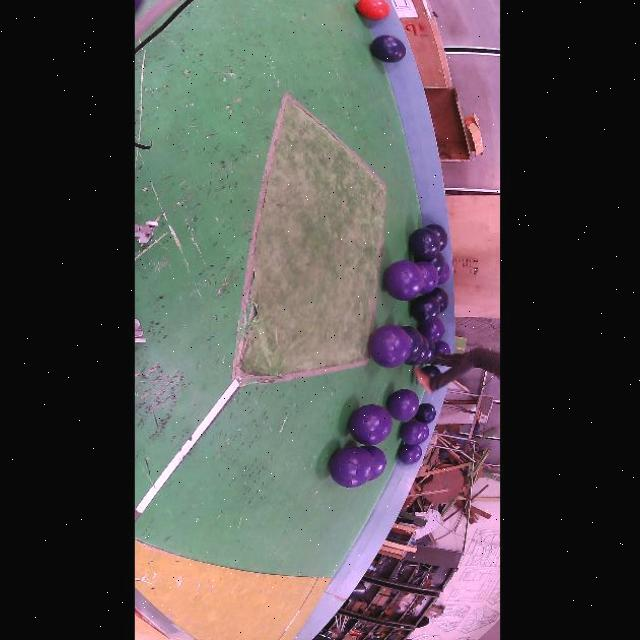B: (409, 227, 440, 260), (371, 36, 406, 62), (411, 295, 440, 324), (401, 326, 423, 362), (408, 337, 429, 366), (426, 223, 448, 250), (428, 287, 449, 312), (414, 403, 435, 424), (427, 253, 445, 276), (423, 338, 435, 363)
P: (368, 325, 411, 368), (329, 446, 373, 488), (349, 405, 392, 446), (385, 260, 424, 301), (387, 389, 419, 422), (362, 446, 386, 480), (415, 262, 439, 293), (419, 319, 444, 343), (400, 420, 424, 444), (398, 444, 421, 465), (438, 262, 451, 284), (435, 340, 451, 354), (419, 423, 429, 443)
R: (357, 0, 391, 19)
